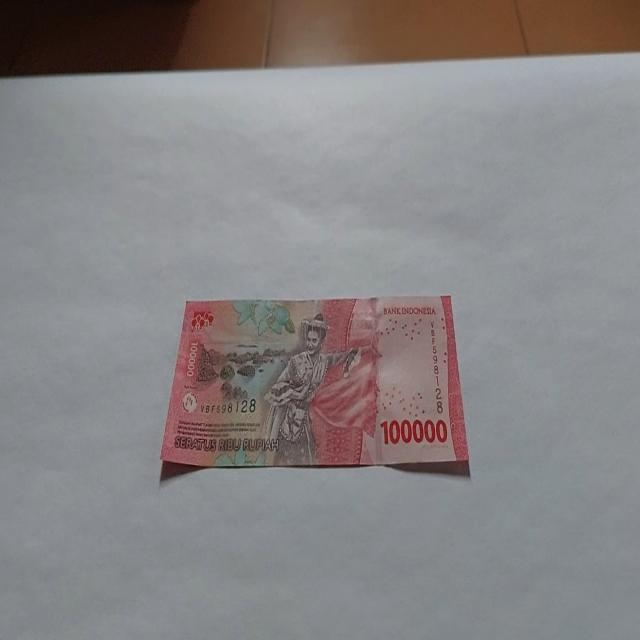seratus ribu rupiah: (160, 294, 470, 474), (258, 311, 362, 467)
